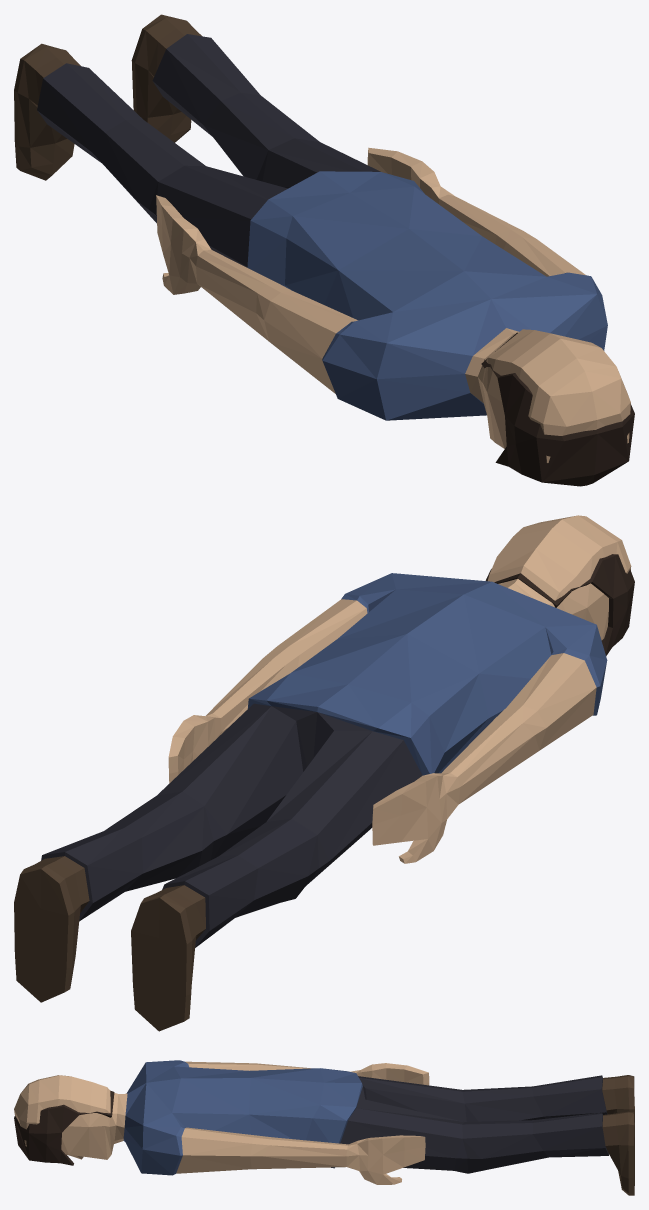
Rendered from man-standing.obj.
3 views of the same model, one above another, from view 1: azimuth 30°, elevation 25°; view 2: azimuth 150°, elevation 25°; view 3: azimuth 270°, elevation 25° (orthographic). The views are drawn at different scales.
Parts seen in each view (by area): view 1: man-standing; view 2: man-standing; view 3: man-standing.
Part boxes in pixels (x1,y1,x2,y2): man-standing: (14, 14, 634, 486); man-standing: (14, 515, 634, 1031); man-standing: (14, 1060, 634, 1195).
Bounding box in the file's own units: 22.89 × 12.79 × 70.77.
